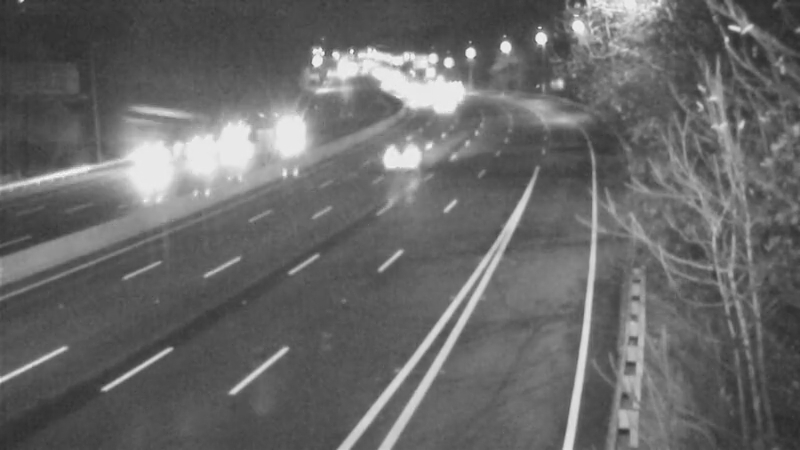vehicle: (352, 124, 432, 204), (121, 124, 201, 204), (165, 117, 245, 197), (247, 115, 297, 165), (215, 120, 265, 170)
